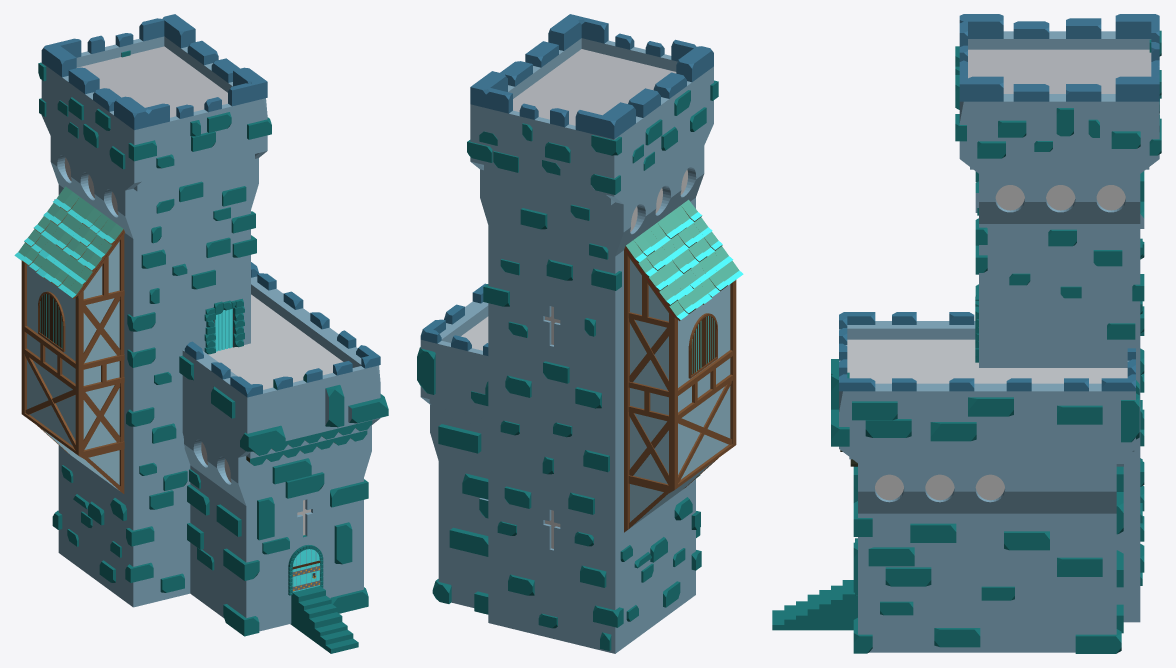
Rendered from SM_Hous_28_A.gltf.
3 renders of one model, left to right at view 1: azimuth 30°, elevation 25°; view 2: azimuth 150°, elevation 25°; view 3: azimuth 270°, elevation 25°, orthographic. The views are drawn at different scales.
Visible parts, largest first — view 1: SM_Hous_28_A; view 2: SM_Hous_28_A; view 3: SM_Hous_28_A.
Part boxes in pixels (bbox=[...]): SM_Hous_28_A: bbox=[14, 14, 388, 653]; SM_Hous_28_A: bbox=[417, 14, 743, 653]; SM_Hous_28_A: bbox=[772, 14, 1161, 653].
Size of the model in its own units: 12.19 by 24.46 by 15.87.
